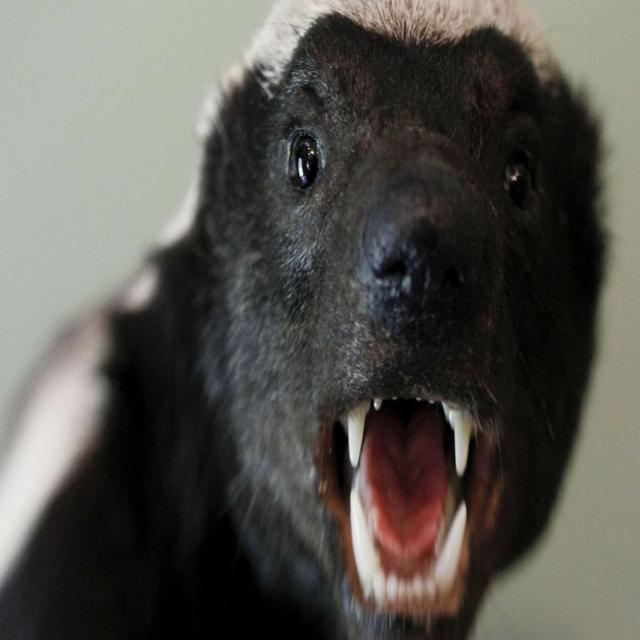Badger: (35, 9, 610, 640)
